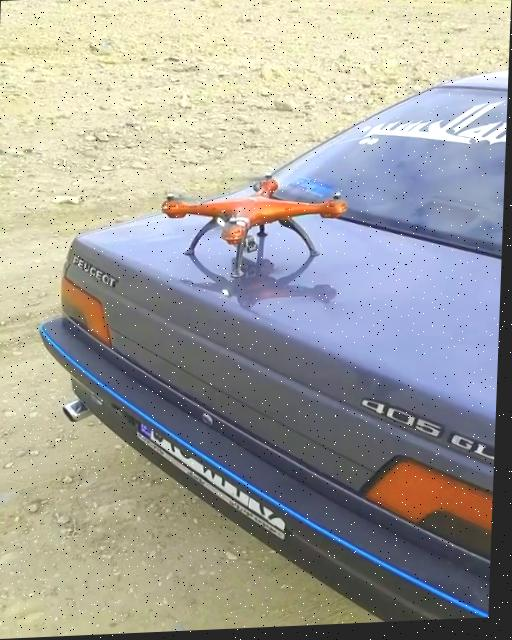drone: (152, 168, 354, 285)
